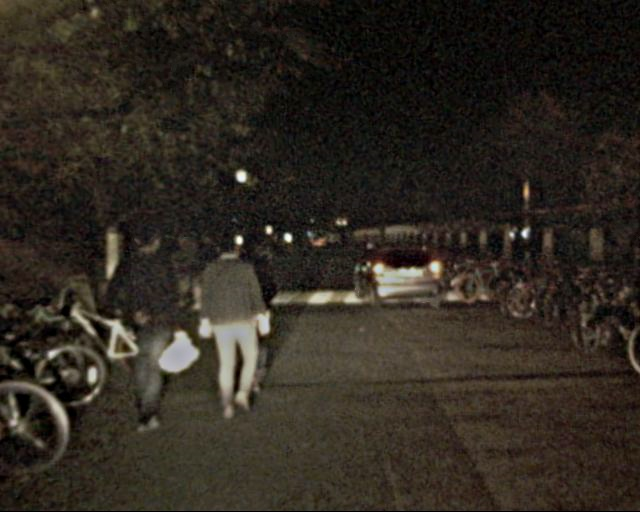person: (104, 221, 188, 427), (196, 234, 271, 416), (219, 230, 282, 378), (170, 229, 204, 313)
